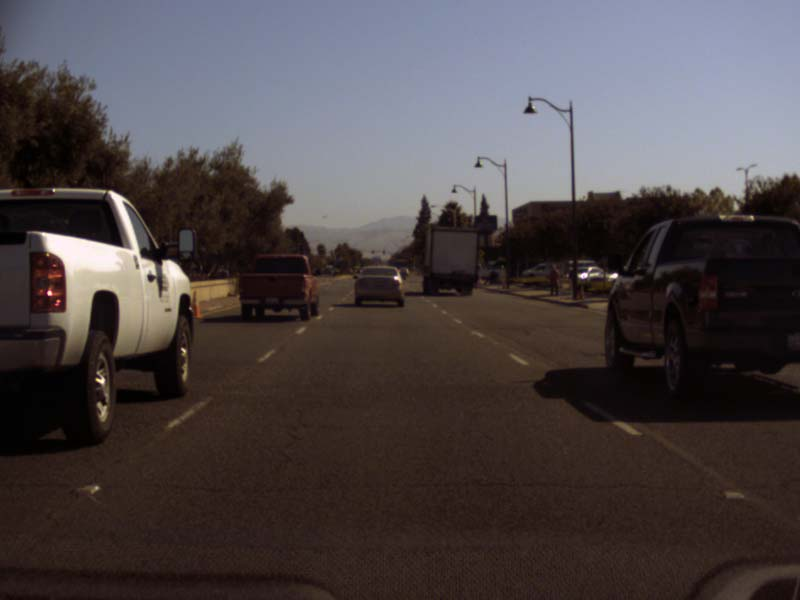Red: (409, 257, 412, 260)
